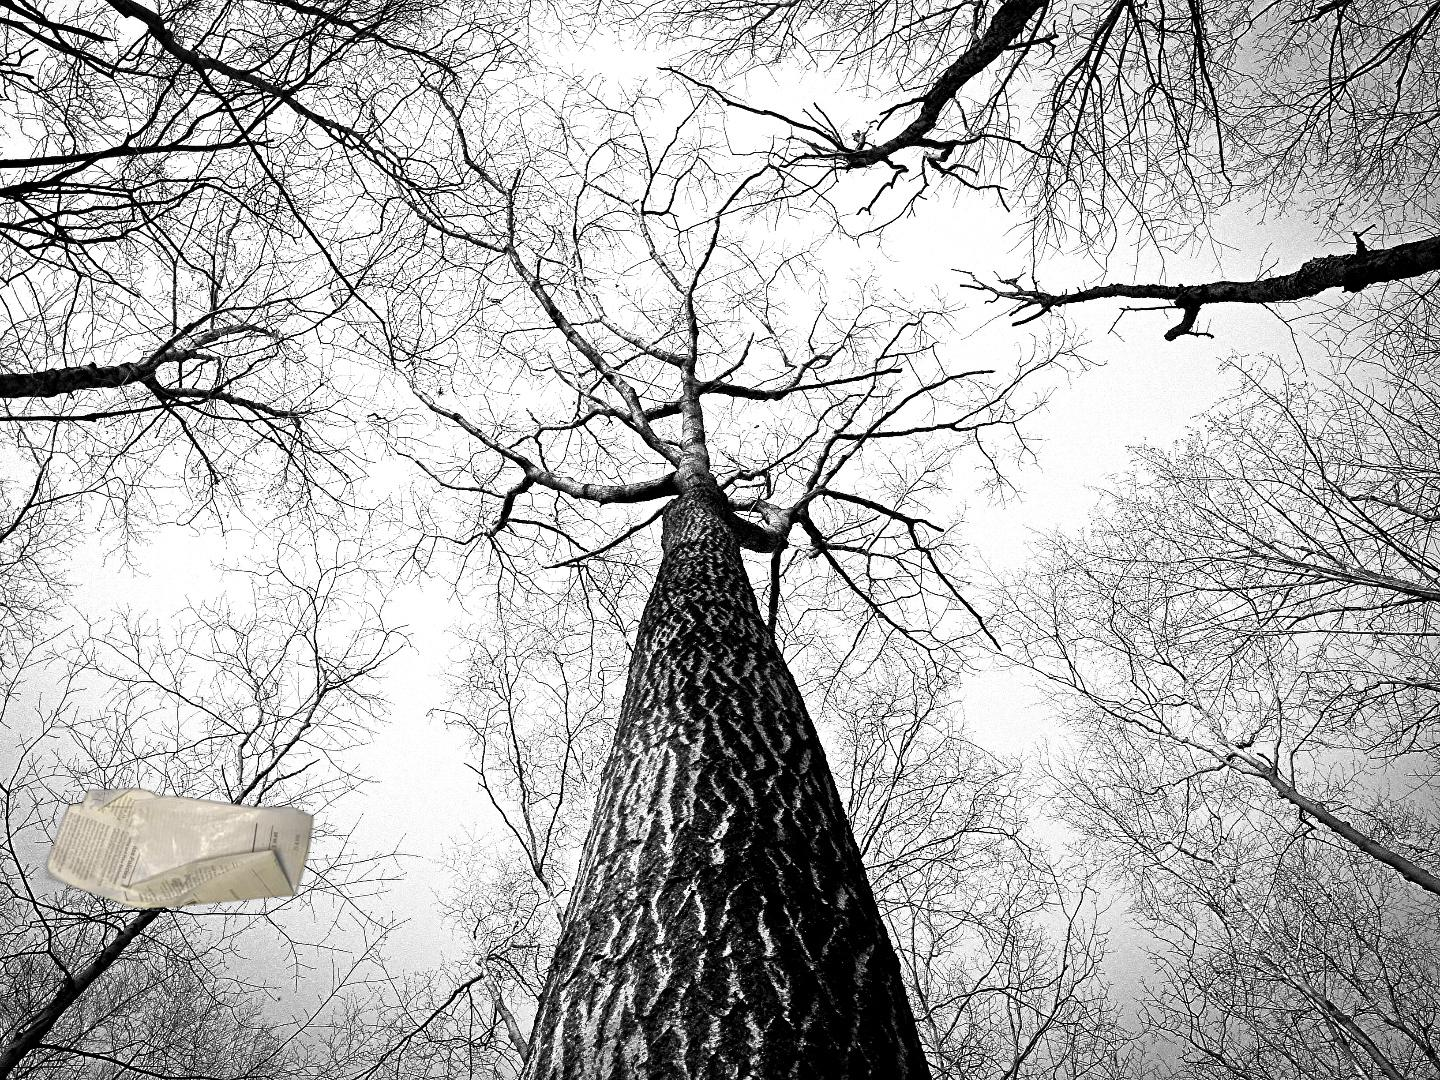paper: (39, 784, 319, 912), (1389, 1001, 1440, 1080)
